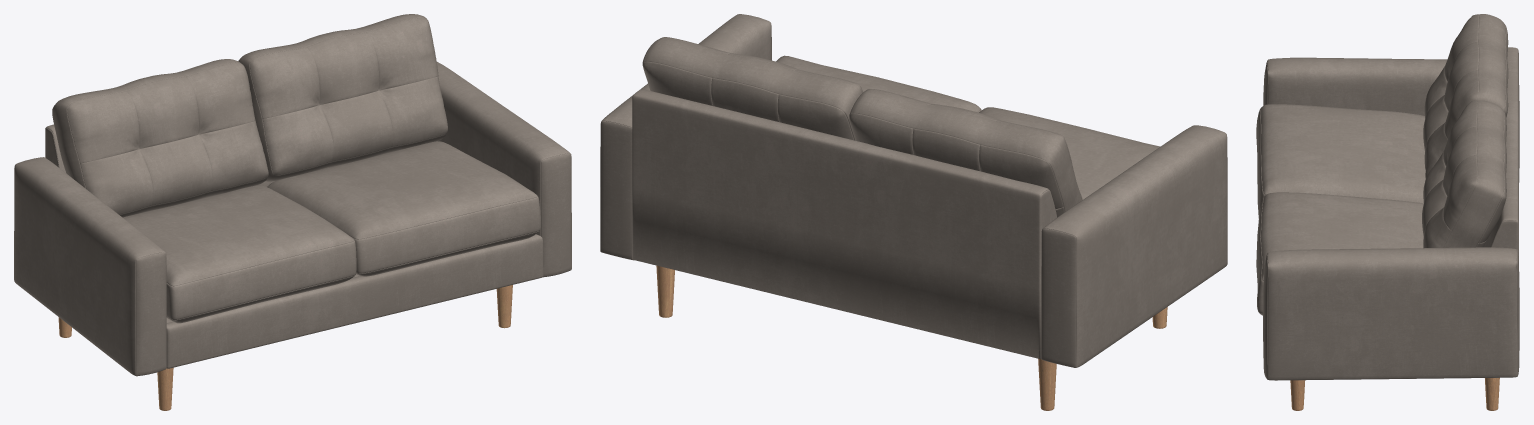
The model's file is sofa.glb.
3 renders of one model, left to right at view 1: azimuth 30°, elevation 25°; view 2: azimuth 150°, elevation 25°; view 3: azimuth 270°, elevation 25°, orthographic. The views are drawn at different scales.
Parts seen in each view (by area): view 1: Upholstery, Legs; view 2: Upholstery, Legs; view 3: Upholstery, Legs.
Part boxes in pixels (box(x1,y1,x2,y2)): Upholstery: box(14, 14, 571, 376); Legs: box(58, 285, 512, 410); Upholstery: box(600, 14, 1227, 367); Legs: box(656, 265, 1167, 410); Upholstery: box(1256, 14, 1519, 380); Legs: box(1290, 377, 1499, 410).
Bounding box in the file's own units: 1.63 × 0.8497 × 0.8672.
Materials: 2 (2 with a texture image).
